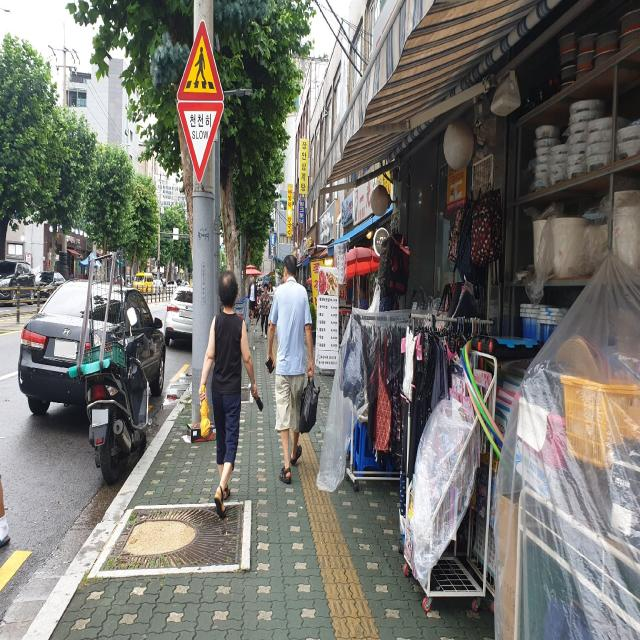car: (17, 280, 166, 416), (163, 286, 193, 347)
motorbike: (69, 243, 149, 485)
